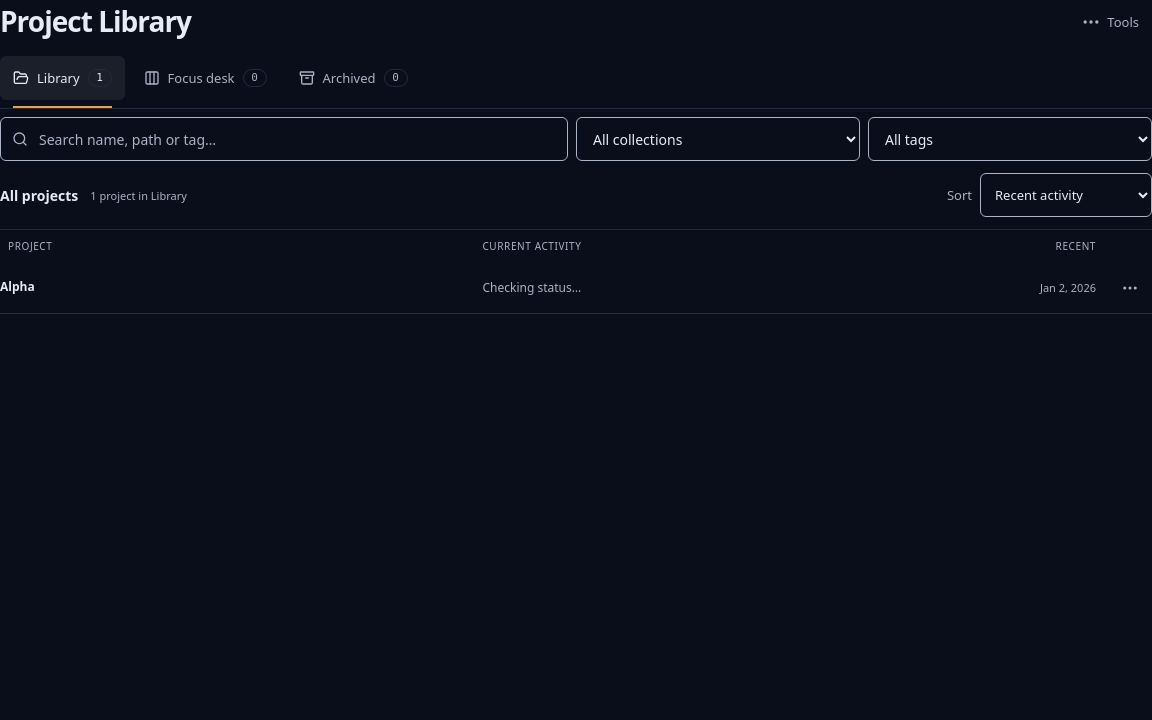
Test: Reviewing and clearing a project's updates › explains empty, caught-up and unread-free states and lets you switch to everything
Click the button named "Details and organization for Alpha".
click(1130, 288)  # box [1108, 266, 1151, 310]
(page scrolled)
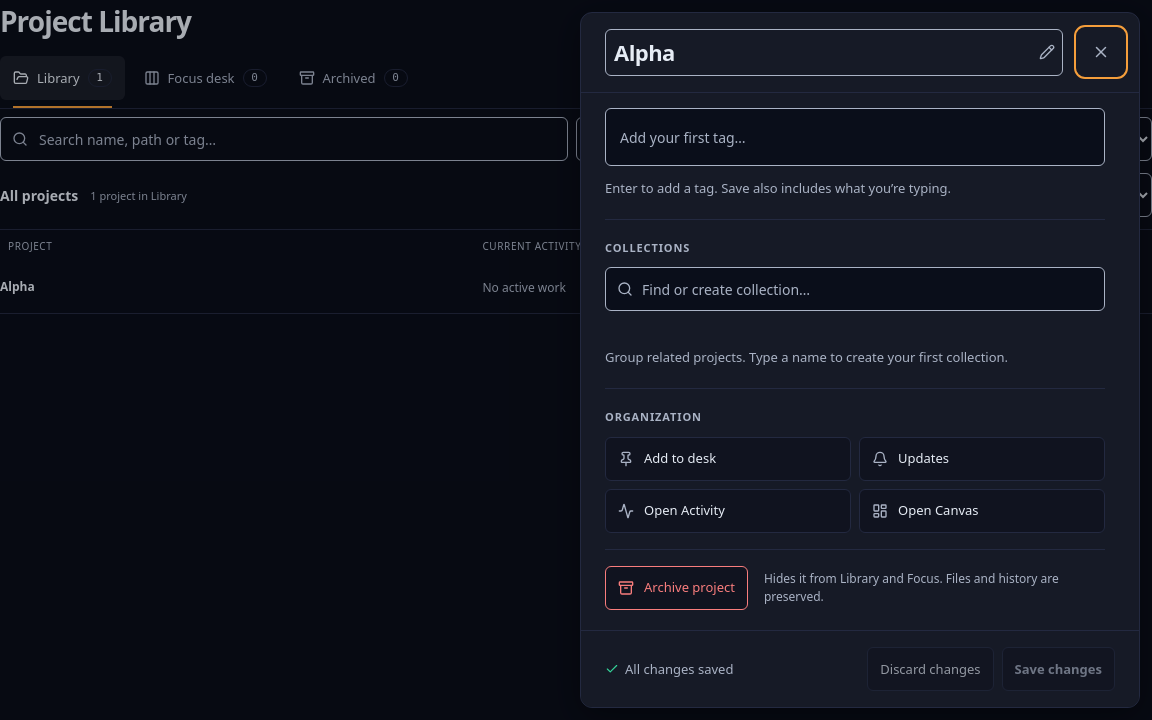
Click the button "Updates".
click(982, 458)  # box [859, 436, 1105, 480]
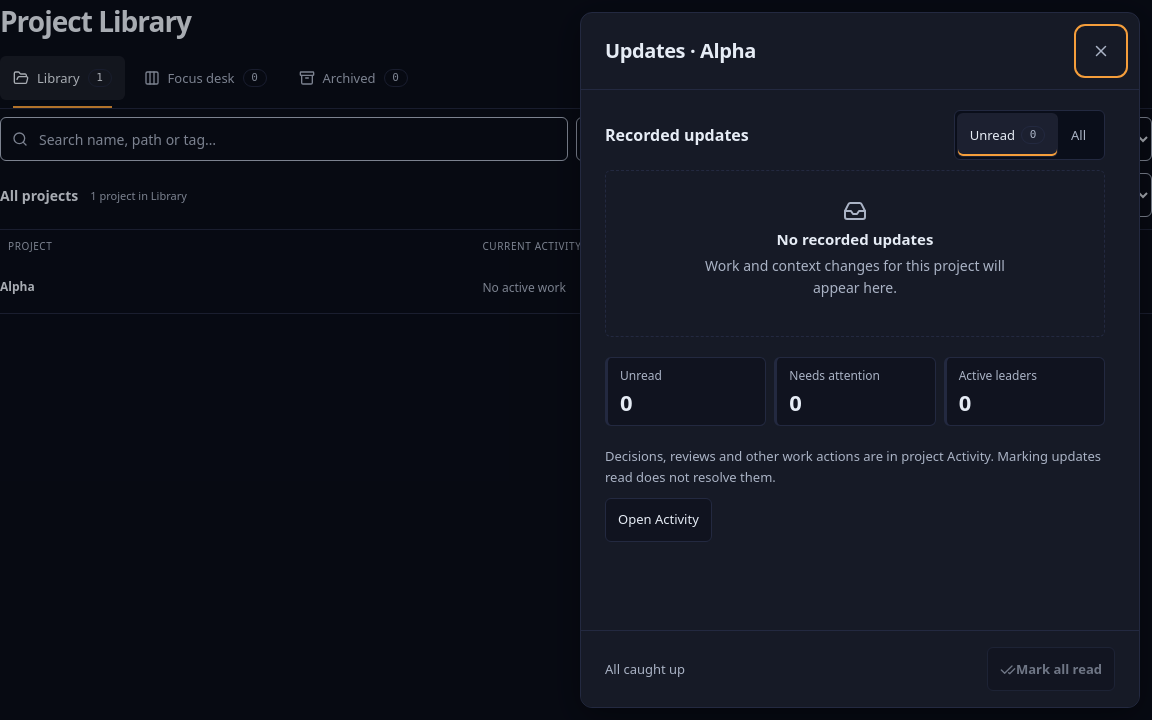
Now the button "Mark all read" is disabled, box [987, 647, 1115, 691]
Now the text "No recorded updates" is shown, box [777, 229, 933, 249]
Click the button named "Close".
click(1101, 51)  # box [1079, 29, 1123, 73]
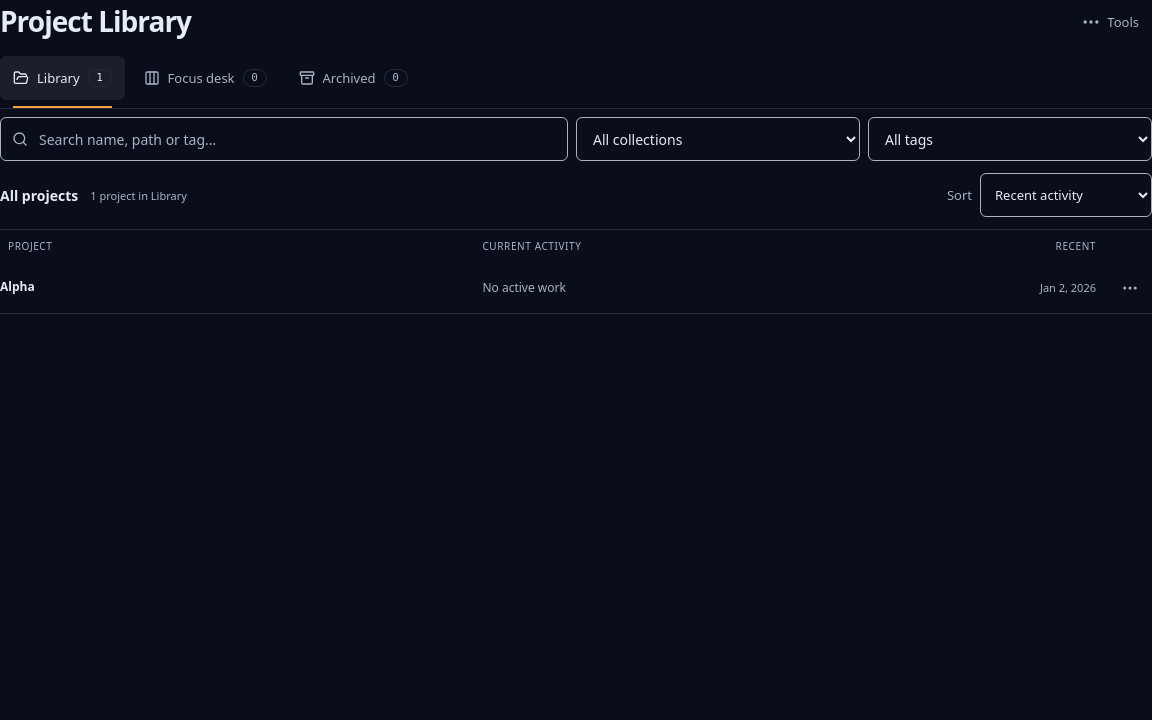
Click the button named "Details and organization for Alpha".
click(1130, 288)  # box [1108, 266, 1151, 310]
(page scrolled)
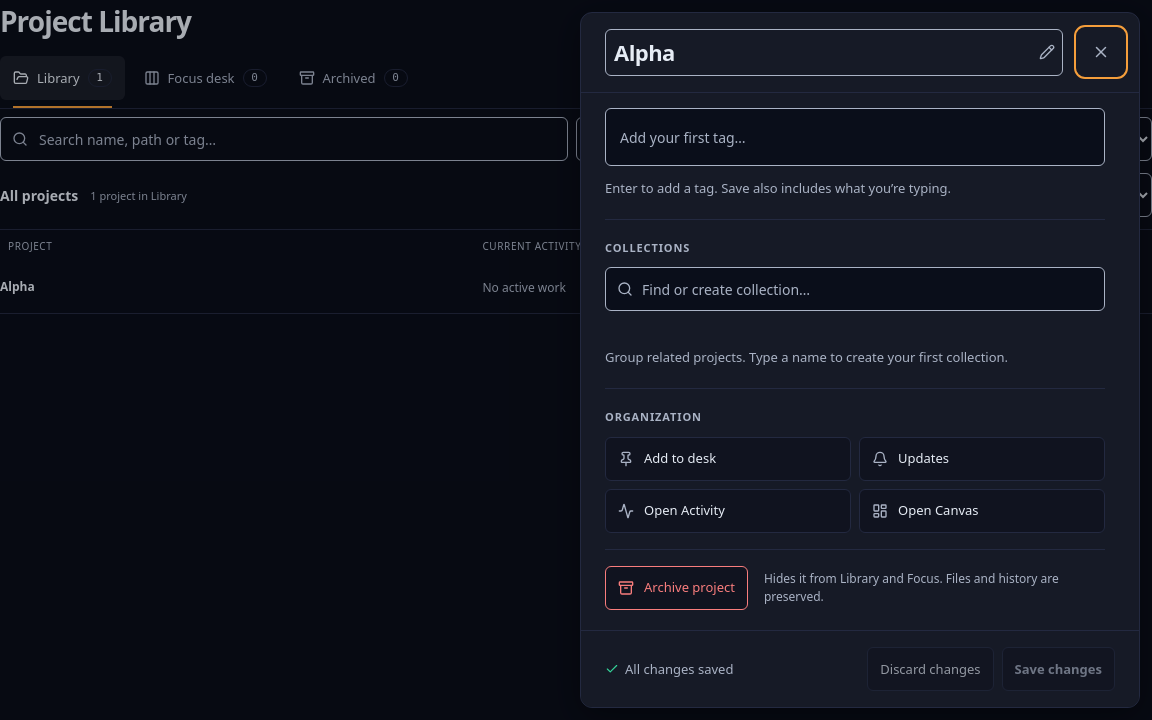
Click the button "Updates".
click(982, 458)  # box [859, 436, 1105, 480]
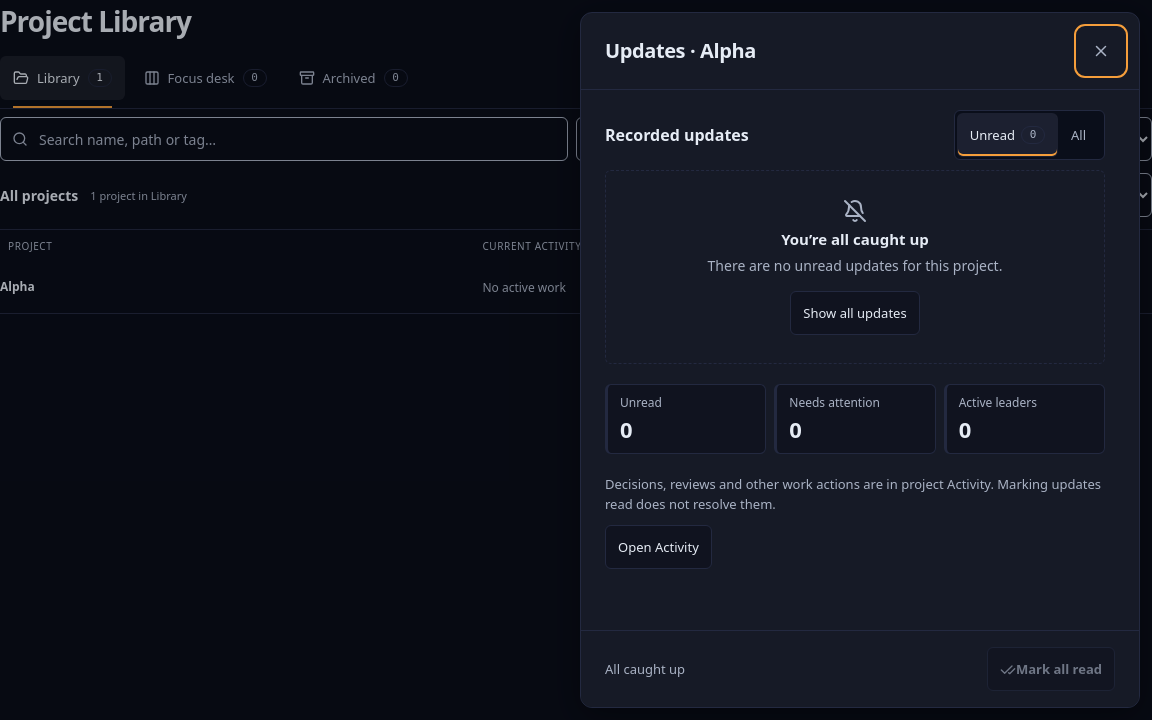
Now the text "You’re all caught up" is shown, box [781, 229, 929, 249]
Click the button "Show all updates".
click(855, 313)  # box [790, 291, 920, 335]
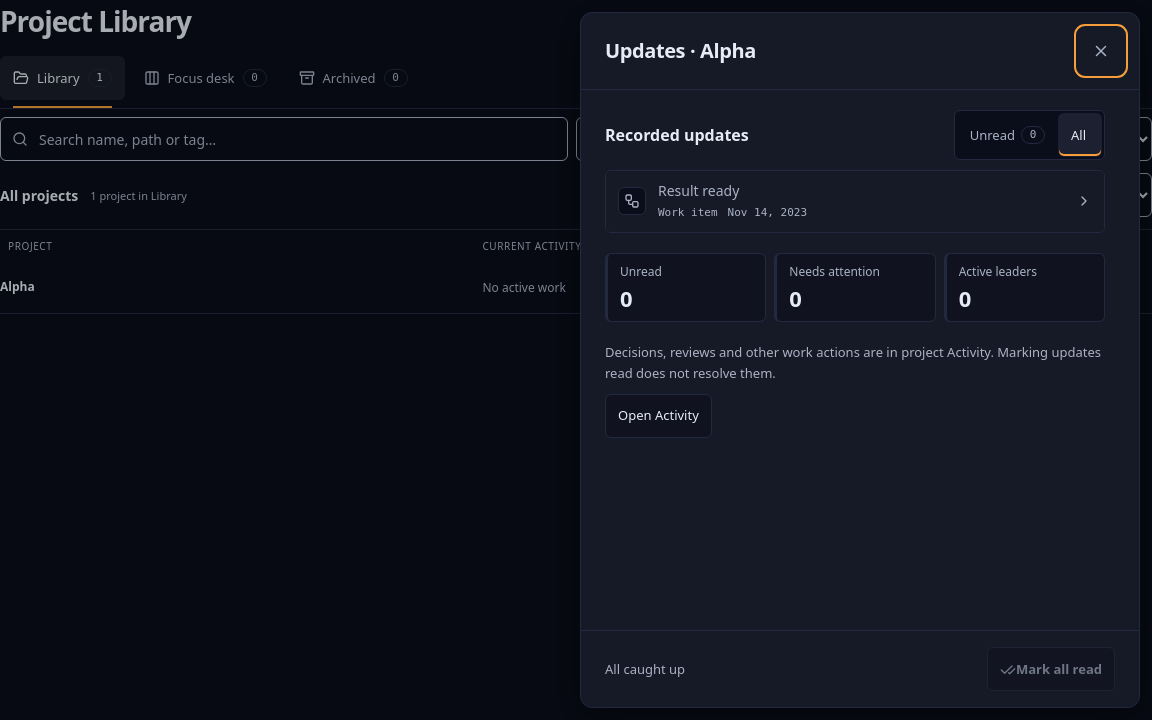
Now the button with aria-label "Open work item: Result ready" is shown, box [606, 171, 1104, 232]
